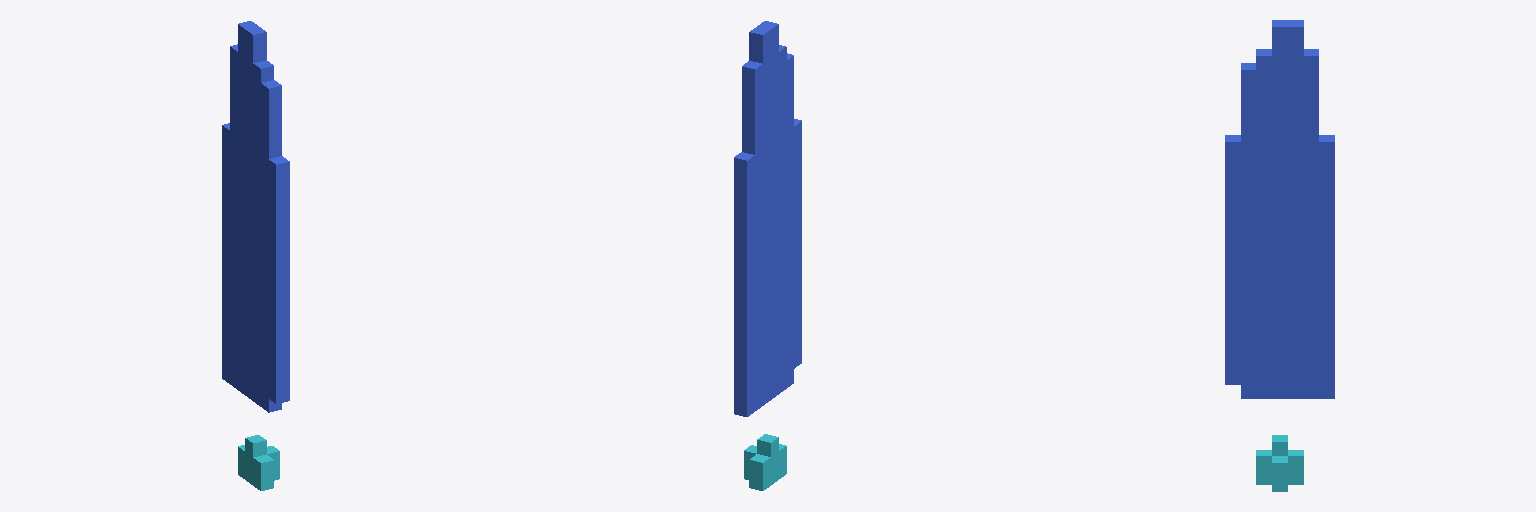
robot.urdf — physxnet_1006_strict:
<?xml version='1.0' encoding='utf-8'?>
<robot name="physxnet_1006_strict">
  <link name="l_world">
    <inertial>
      <origin xyz="0 0 0" rpy="0 0 0" />
      <mass value="0.0100000000" />
      <inertia ixx="0.0000001667" ixy="0.0" ixz="0.0" iyy="0.0000001667" iyz="0.0" izz="0.0000001667" />
    </inertial>
  </link><link name="l_0">
    <inertial>
      <origin xyz="0.0002326515 0.0003468277 0.0498934973" rpy="0 0 0" />
      <mass value="0.0007897475" />
      <inertia ixx="0.0000006895" ixy="0.0" ixz="0.0" iyy="0.0000006616" iyz="0.0" izz="0.0000000292" />
    </inertial><visual>
      <origin xyz="0 0 0" rpy="0 0 0" />
      <geometry>
        <mesh filename="../rigid_visuals/part_000_visual.obj" scale="1 1 1" />
      </geometry><material name="mat_l_0">
        <color rgba="0.32548 0.48041 0.93131 1.00000" />
      </material>
    </visual><collision>
      <origin xyz="0 0 0" rpy="0 0 0" />
      <geometry>
        <mesh filename="part_000_collision.obj" scale="1 1 1" />
      </geometry>
    </collision>
  </link><joint name="joint_fixed_l_world_l_0" type="fixed">
    <parent link="l_world" />
    <child link="l_0" />
    <origin xyz="0 0 0" rpy="0 0 0" />
  </joint><link name="l_1">
    <inertial>
      <origin xyz="0.0000000000 0.0000000000 -0.0479525576" rpy="0 0 0" />
      <mass value="0.0002877125" />
      <inertia ixx="0.0000002845" ixy="0.0" ixz="0.0" iyy="0.0000002603" iyz="0.0" izz="0.0000000253" />
    </inertial><visual>
      <origin xyz="0 0 0" rpy="0 0 0" />
      <geometry>
        <mesh filename="../rigid_visuals/part_001_visual.obj" scale="1 1 1" />
      </geometry><material name="mat_l_1">
        <color rgba="0.15447 0.35718 0.26453 1.00000" />
      </material>
    </visual><collision>
      <origin xyz="0 0 0" rpy="0 0 0" />
      <geometry>
        <mesh filename="part_001_collision.obj" scale="1 1 1" />
      </geometry>
    </collision>
  </link><joint name="joint_fixed_l_0_l_1" type="fixed">
    <parent link="l_0" />
    <child link="l_1" />
    <origin xyz="0 0 0" rpy="0 0 0" />
  </joint><link name="l_2">
    <inertial>
      <origin xyz="0.0014188207 0.0001534140 -0.0217433138" rpy="0 0 0" />
      <mass value="0.0001000000" />
      <inertia ixx="0.0000000011" ixy="0.0" ixz="0.0" iyy="0.0000000006" iyz="0.0" izz="0.0000000006" />
    </inertial><visual>
      <origin xyz="0 0 0" rpy="0 0 0" />
      <geometry>
        <mesh filename="../rigid_visuals/part_002_visual.obj" scale="1 1 1" />
      </geometry><material name="mat_l_2">
        <color rgba="0.29417 0.82410 0.87988 1.00000" />
      </material>
    </visual><collision>
      <origin xyz="0 0 0" rpy="0 0 0" />
      <geometry>
        <mesh filename="part_002_collision.obj" scale="1 1 1" />
      </geometry>
    </collision>
  </link><joint name="joint_fixed_l_1_l_2" type="fixed">
    <parent link="l_1" />
    <child link="l_2" />
    <origin xyz="0 0 0" rpy="0 0 0" />
  </joint>
</robot>

--- Facts derived from the render (not from the file) ---
The picture shows the robot from 3 angles, left to right: view 1: azimuth 30°, elevation 25°; view 2: azimuth 150°, elevation 25°; view 3: azimuth 270°, elevation 25°; orthographic projection.
Robot: physxnet_1006_strict — 4 links, 3 joints (3 fixed); root link l_world; default pose: every joint at zero.
Links seen in each view (by area): view 1: l_0, l_2; view 2: l_0, l_2; view 3: l_0, l_2.
Link boxes in pixels (box(x1,y1,x2,y2)): l_0: box(222, 21, 289, 412); l_2: box(238, 435, 279, 490); l_0: box(734, 21, 801, 416); l_2: box(744, 434, 786, 490); l_0: box(1225, 20, 1334, 398); l_2: box(1256, 435, 1303, 491).
Size in the robot's own frame: 0.008 by 0.028 by 0.128 metres.
2 mesh visuals loaded from 3 distinct referenced files (2 OBJ); not drawn: 1 (reference not matched to a file when rendering).
